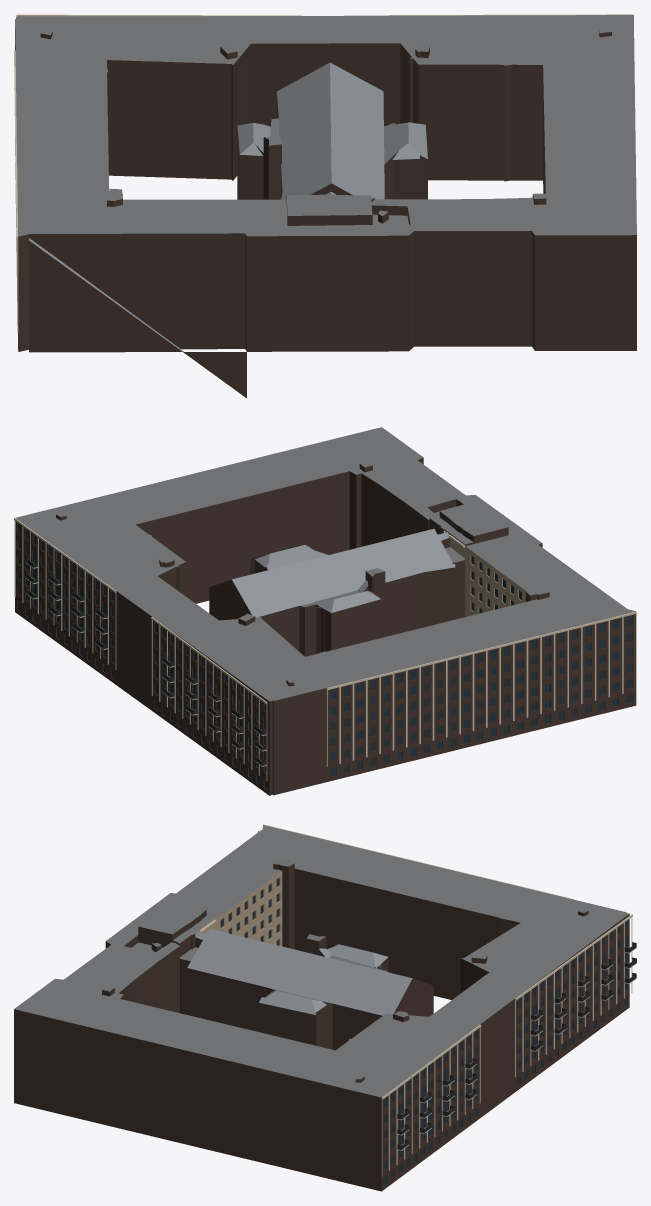
File: recipe-large-plantage-middenlaan-52-186093.glb
3 renders of one model, top to bottom at view 1: azimuth 30°, elevation 25°; view 2: azimuth 150°, elevation 25°; view 3: azimuth 270°, elevation 25°, orthographic. The views are drawn at different scales.
Visible parts, largest first — view 1: plantage-middenlaan-52-186093; view 2: plantage-middenlaan-52-186093; view 3: plantage-middenlaan-52-186093.
Boxes of the visible parts, bbox=[...] form: plantage-middenlaan-52-186093: bbox=[14, 14, 636, 398]; plantage-middenlaan-52-186093: bbox=[14, 427, 636, 795]; plantage-middenlaan-52-186093: bbox=[14, 824, 636, 1191].
Size of the model in its own units: 140 by 33.35 by 135.
